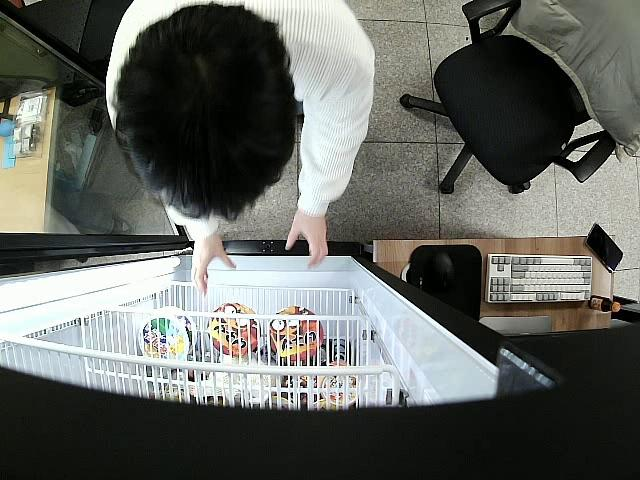00_hand: (190, 237, 235, 293), (284, 215, 328, 270)
